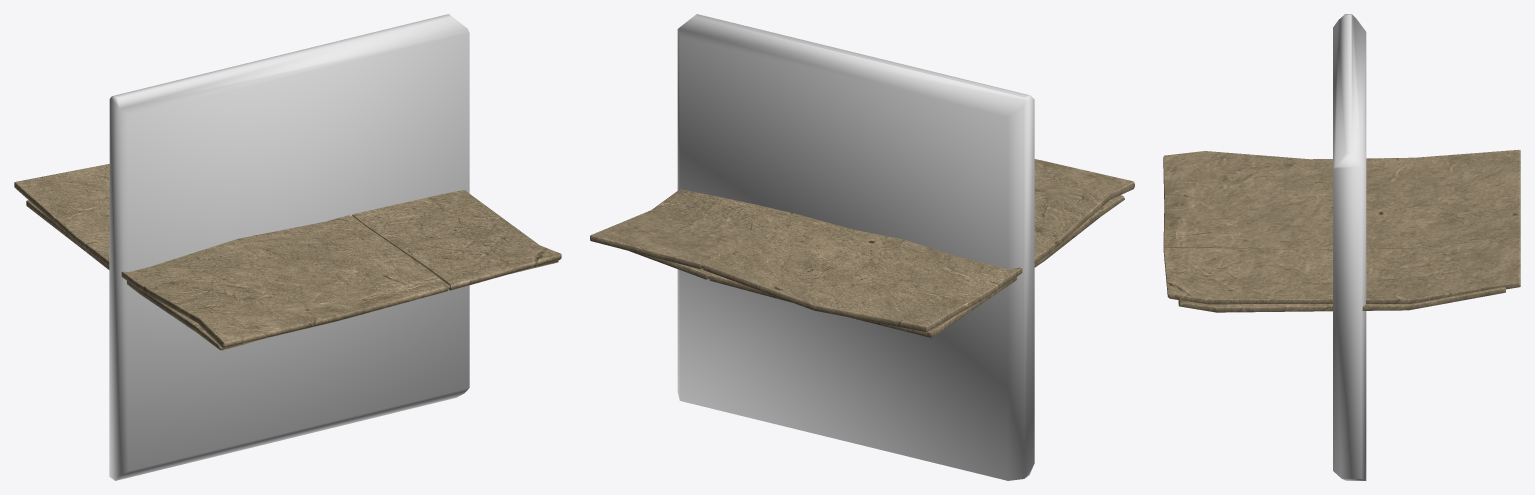
The model's file is SM_Cardboard_Crushed_03.fbx.
The picture shows the model from 3 angles, left to right: view 1: azimuth 30°, elevation 25°; view 2: azimuth 150°, elevation 25°; view 3: azimuth 270°, elevation 25°; orthographic projection. The views are drawn at different scales.
Parts seen in each view (by area): view 1: SM_Cardboard_Crushed_03_ConvexHulls, SM_Cardboard_Crushed_03; view 2: SM_Cardboard_Crushed_03_ConvexHulls, SM_Cardboard_Crushed_03; view 3: SM_Cardboard_Crushed_03, SM_Cardboard_Crushed_03_ConvexHulls.
Part boxes in pixels (<box>): SM_Cardboard_Crushed_03_ConvexHulls: <box>109,14,469,480</box>; SM_Cardboard_Crushed_03: <box>14,164,561,350</box>; SM_Cardboard_Crushed_03_ConvexHulls: <box>677,14,1034,480</box>; SM_Cardboard_Crushed_03: <box>590,159,1134,337</box>; SM_Cardboard_Crushed_03: <box>1163,149,1520,312</box>; SM_Cardboard_Crushed_03_ConvexHulls: <box>1333,14,1366,480</box>.
Size of the model in its own units: 0.4937 by 0.5205 by 0.5182.
